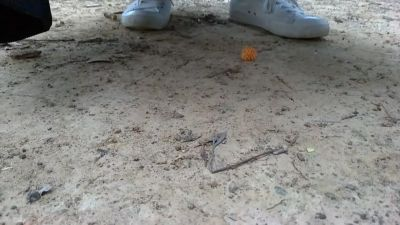eggs: (239, 40, 257, 66)
